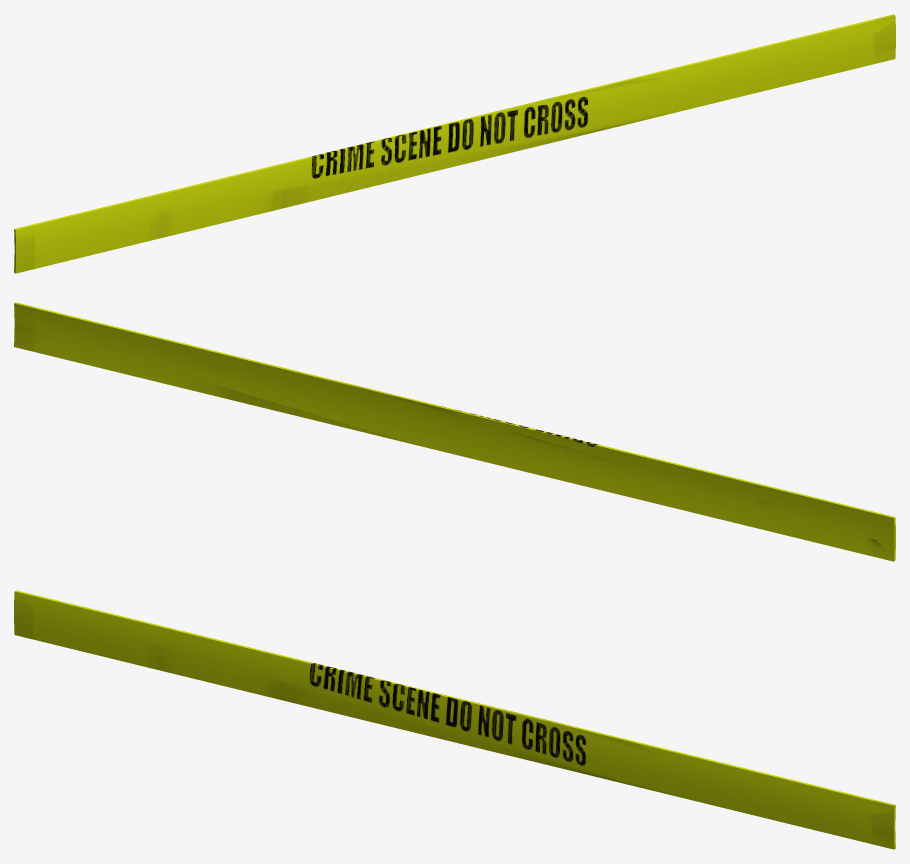
Rendered from CSI Tape.FBX.
The picture shows the model from 3 angles, top to bottom: view 1: azimuth 30°, elevation 25°; view 2: azimuth 150°, elevation 25°; view 3: azimuth 330°, elevation 25°; orthographic projection.
Parts seen in each view (by area): view 1: tape; view 2: tape; view 3: tape.
Boxes of the visible parts, x1,y1,x2,y2 form: tape: (14, 14, 895, 273); tape: (14, 302, 895, 561); tape: (14, 590, 895, 849).
Size of the model in its own units: 39.37 by 1.86 by 0.1685.
1 material, 1 textured.
